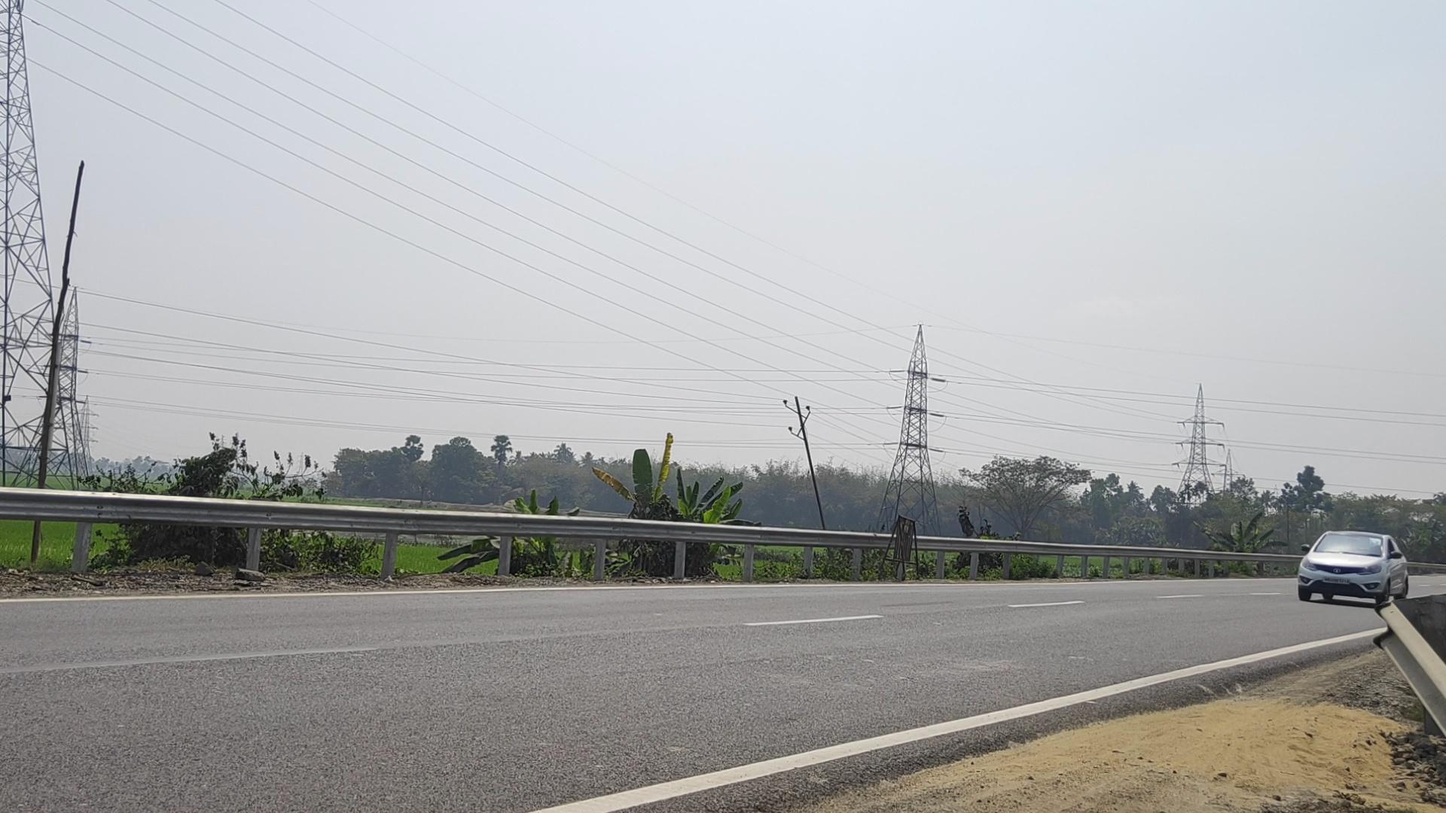car: (1297, 531, 1409, 607)
